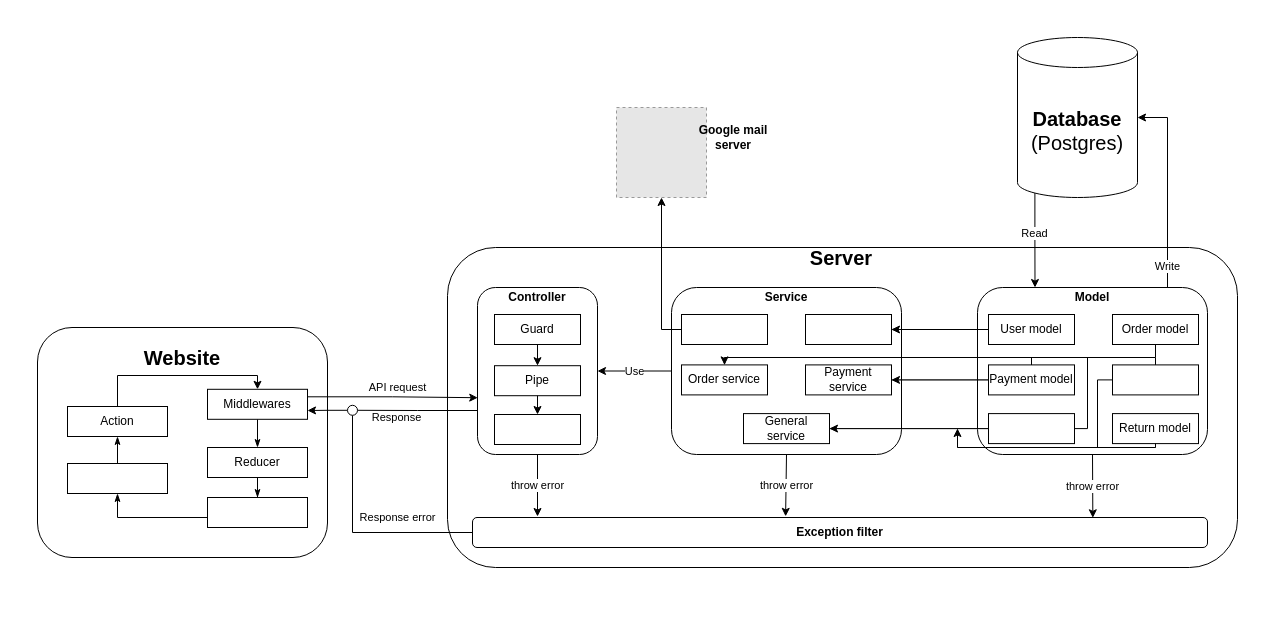
The diagram is 1274 pixels wide and 624 high, and some of its shapes have lost their labels. Grey dashed boxes stand in for pictures. Here are the shapes that lost their labels. From the top down, the box of each, then its label:
(680, 314, 768, 344): Notify service
(804, 314, 892, 344): User service
(1112, 364, 1198, 395): Import model
(494, 414, 580, 444): Handlers
(988, 413, 1074, 444): Export model
(66, 462, 168, 494): Component
(206, 496, 308, 528): Store
